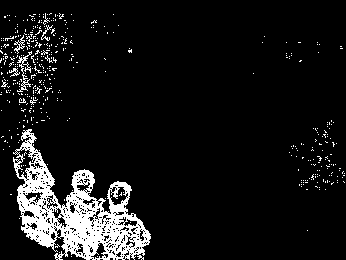person: (101, 178, 153, 260), (58, 167, 103, 260), (17, 166, 60, 260), (11, 126, 58, 191)
